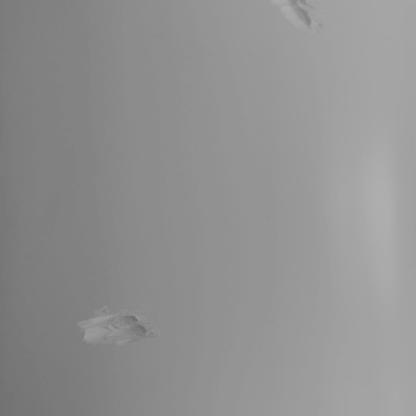sunshang: (79, 310, 157, 349), (275, 1, 325, 34)
